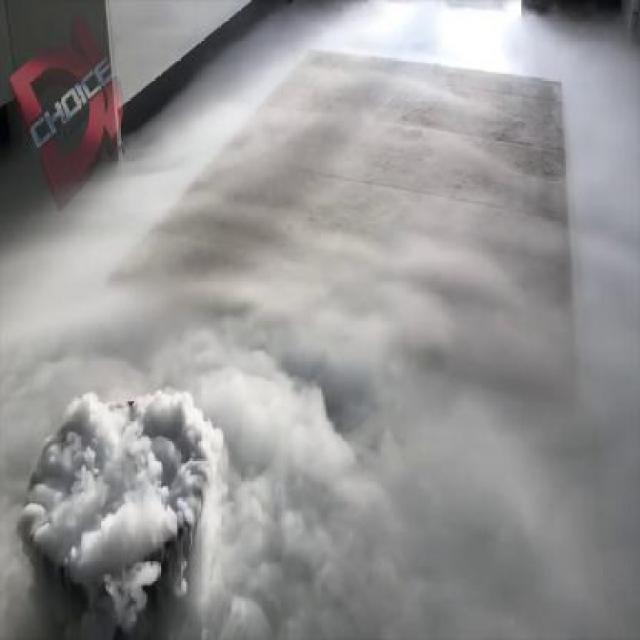smoke: (1, 227, 460, 640)
